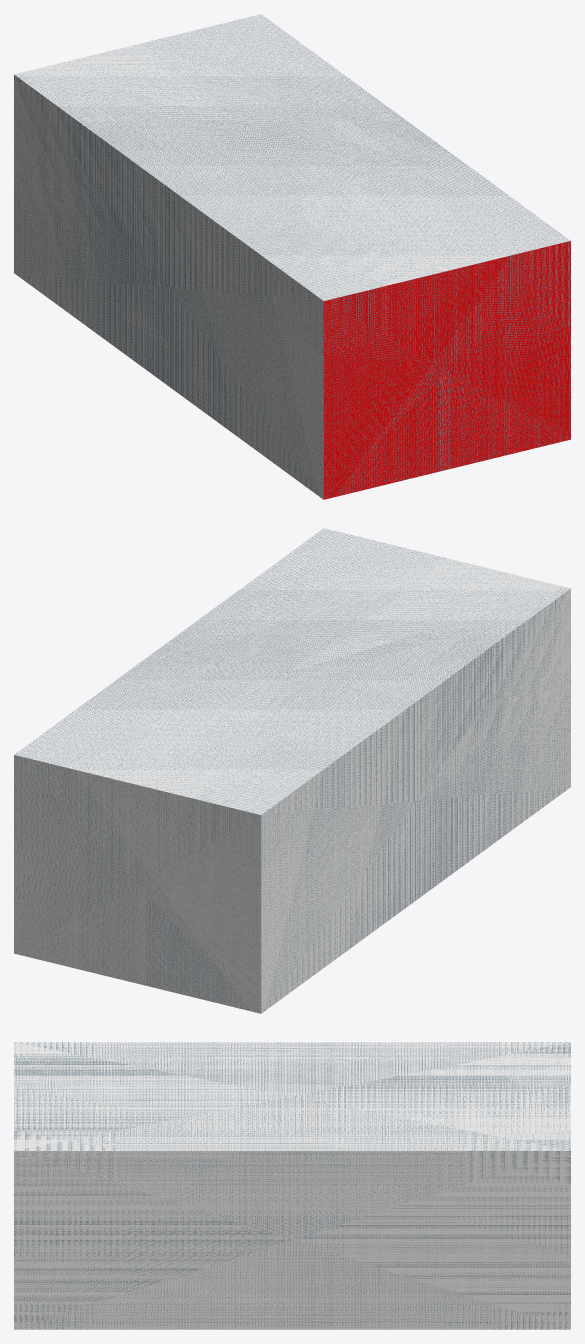
File: box-one-material.dae
3 views of the same model, one above another, from view 1: azimuth 30°, elevation 25°; view 2: azimuth 150°, elevation 25°; view 3: azimuth 270°, elevation 25° (orthographic). The views are drawn at different scales.
Parts seen in each view (by area): view 1: SketchUp (×2); view 2: SketchUp; view 3: SketchUp.
Part boxes in pixels (<box>): SketchUp (×2): <box>14,14,570,499</box>; SketchUp: <box>14,528,570,1013</box>; SketchUp: <box>14,1042,570,1329</box>.
Bounding box in the file's own units: 34.5 × 74.88 × 26.5.
